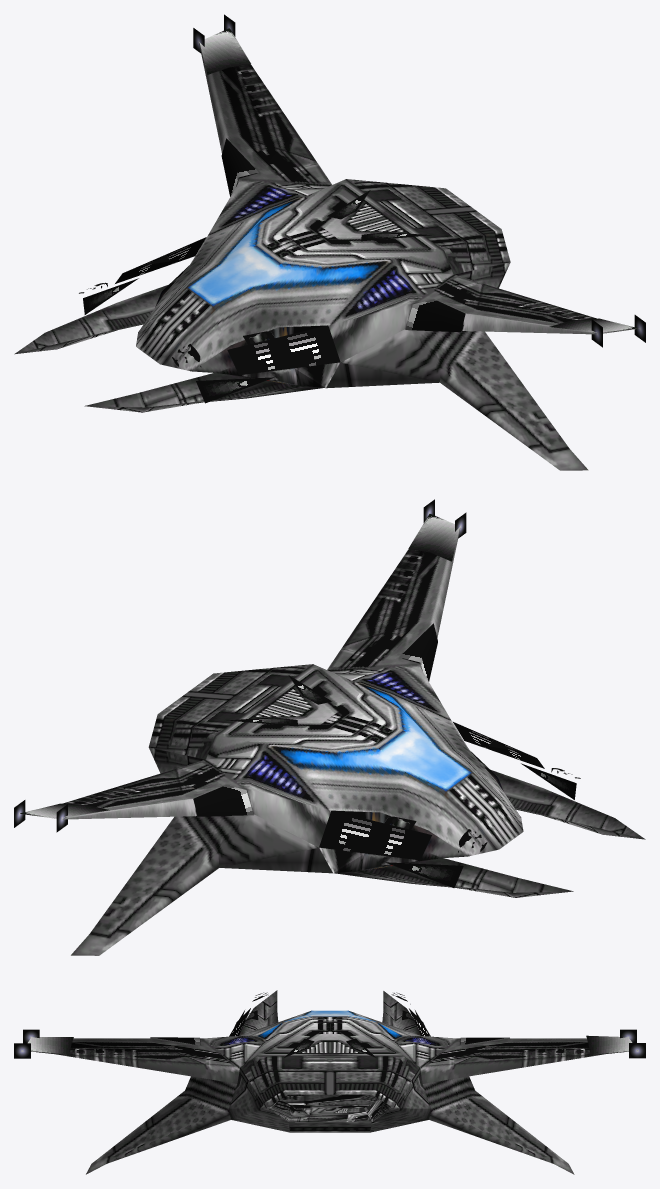
Rendered from PVF01A.obj.
The picture shows the model from 3 angles, top to bottom: view 1: azimuth 30°, elevation 25°; view 2: azimuth 150°, elevation 25°; view 3: azimuth 270°, elevation 25°; orthographic projection. The views are drawn at different scales.
Parts seen in each view (by area): view 1: PVF01A0, PVFE01A0, RED_LITE_20, PLATE10, PLATE020, SCANNER_10, GRAD-10, LITE010, SCANNER_20, RED_LITE_10, DETAIL_LITETR0, GRAD-020; view 2: PVF01A0, PVFE01A0, RED_LITE_10, PLATE020, PLATE10, SCANNER_20, GRAD-020, SCANNER_10, LITE30, RED_LITE_20, DETAIL_LITETR0, GRAD-10; view 3: PVF01A0, PVFE01A0, PLATE020, PLATE10, GRAD-10, GRAD-020, DETAIL_LITETR0.
Boxes of the visible parts, x1,y1,x2,y2 form: PVF01A0: (136,43,639,470); PVFE01A0: (347,179,510,288); RED_LITE_20: (227,325,340,375); PLATE10: (14,285,167,354); PLATE020: (84,372,324,412); SCANNER_10: (405,299,465,332); GRAD-10: (199,28,250,74); LITE010: (196,377,274,403); SCANNER_20: (221,138,258,196); RED_LITE_10: (115,237,206,283); DETAIL_LITETR0: (327,190,431,241); GRAD-020: (549,318,638,332); PVF01A0: (20,513,523,955); PVFE01A0: (148,664,312,773); RED_LITE_10: (319,810,431,860); PLATE020: (491,770,645,839); PLATE10: (334,858,573,897); SCANNER_20: (193,785,253,816); GRAD-020: (408,514,459,561); SCANNER_10: (399,623,437,681); LITE30: (385,862,463,887); RED_LITE_20: (453,722,544,768); DETAIL_LITETR0: (226,675,331,726); GRAD-10: (20,803,109,817); PVF01A0: (31,1010,628,1174); PVFE01A0: (229,1056,430,1132); PLATE020: (239,990,278,1035); PLATE10: (382,991,420,1035); GRAD-10: (586,1035,632,1054); GRAD-020: (28,1037,73,1054); DETAIL_LITETR0: (284,1038,376,1057).
Size of the model in its own units: 60.32 by 24.45 by 104.
20 materials, 20 textured.
